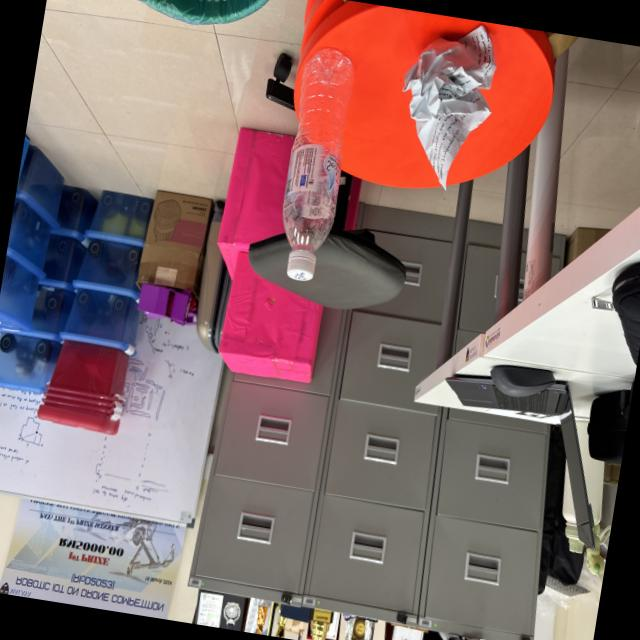crumpled_paper: (378, 10, 514, 204)
plastic_bottle: (265, 35, 367, 293)
